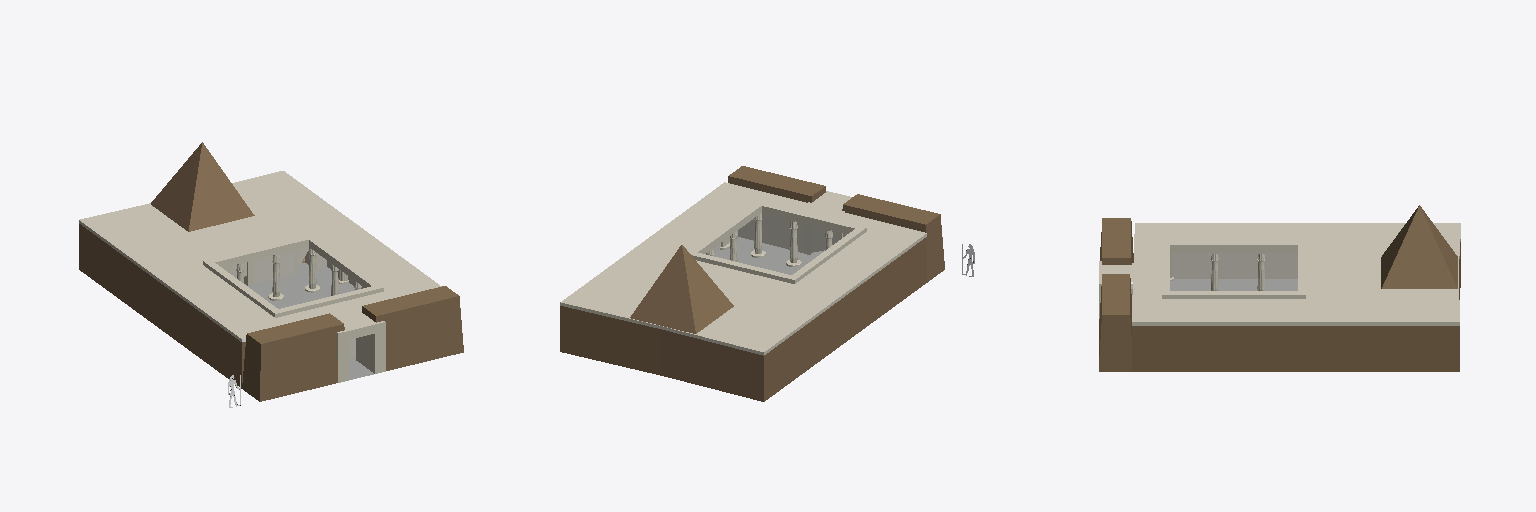
The picture shows the model from 3 angles: view 1: azimuth 30°, elevation 25°; view 2: azimuth 150°, elevation 25°; view 3: azimuth 270°, elevation 25°; orthographic projection.
Parts seen in each view (by area): view 1: Mesh39 Model, Mesh37 Component_31_1 Model, Mesh38 Component_31_2 Model, Mesh35 Component_29_1 Model, Mesh36 Component_30_1 Model; view 2: Mesh39 Model, Mesh35 Component_29_1 Model, Mesh37 Component_31_1 Model, Mesh38 Component_31_2 Model, Mesh36 Component_30_1 Model; view 3: Mesh39 Model, Mesh35 Component_29_1 Model, Mesh38 Component_31_2 Model, Mesh37 Component_31_1 Model.
Part boxes in pixels (left/top/right/bottom): Mesh39 Model: left=79, top=171, right=441, bottom=388; Mesh37 Component_31_1 Model: left=242, top=313, right=344, bottom=401; Mesh38 Component_31_2 Model: left=362, top=286, right=463, bottom=370; Mesh35 Component_29_1 Model: left=151, top=142, right=254, bottom=231; Mesh36 Component_30_1 Model: left=336, top=311, right=385, bottom=382; Mesh39 Model: left=560, top=182, right=926, bottom=401; Mesh35 Component_29_1 Model: left=630, top=245, right=733, bottom=333; Mesh37 Component_31_1 Model: left=842, top=194, right=944, bottom=282; Mesh38 Component_31_2 Model: left=728, top=166, right=825, bottom=202; Mesh36 Component_30_1 Model: left=805, top=191, right=851, bottom=254; Mesh39 Model: left=1099, top=223, right=1460, bottom=371; Mesh35 Component_29_1 Model: left=1381, top=205, right=1457, bottom=288; Mesh38 Component_31_2 Model: left=1099, top=274, right=1131, bottom=371; Mesh37 Component_31_1 Model: left=1100, top=218, right=1133, bottom=264.
Size of the model in its own units: 12.08 by 5.81 by 16.17.
Materials: 8 (2 with a texture image).